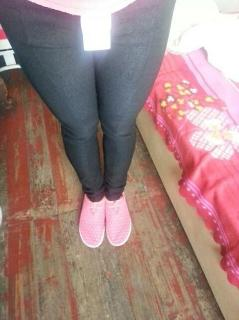trousers: (0, 0, 177, 201)
